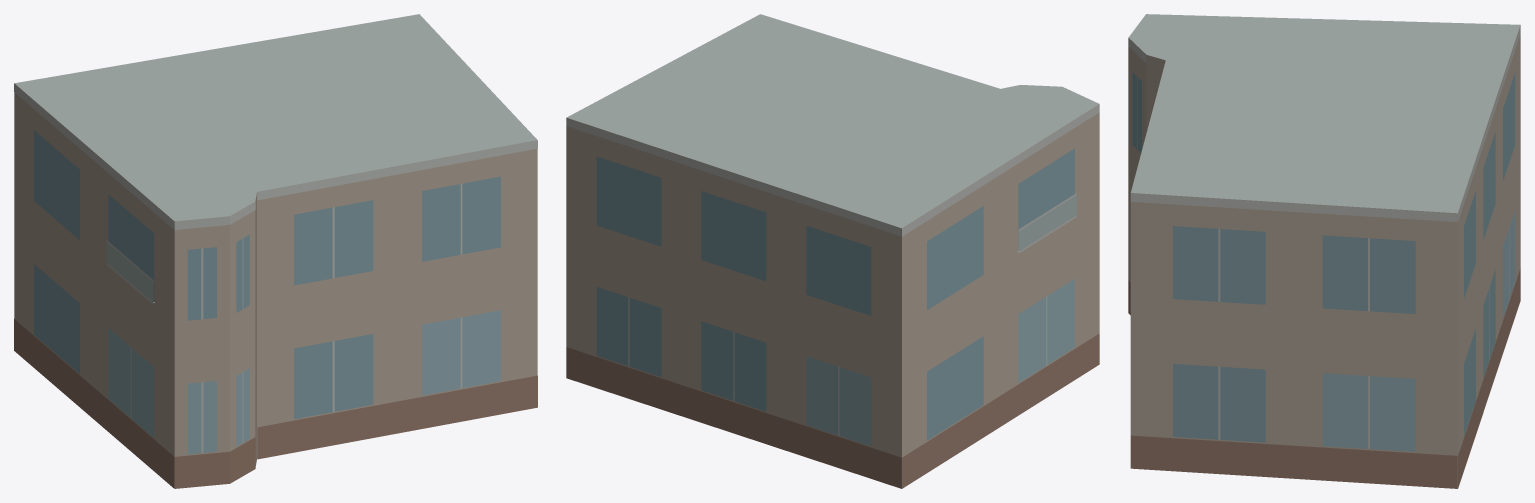
The model's file is survey-upis-32657113.glb.
3 renders of one model, left to right at view 1: azimuth 30°, elevation 25°; view 2: azimuth 150°, elevation 25°; view 3: azimuth 270°, elevation 25°, orthographic. The views are drawn at different scales.
Visible parts, largest first — view 1: survey-upis-32657113.tmp; view 2: survey-upis-32657113.tmp; view 3: survey-upis-32657113.tmp.
Part boxes in pixels (<box>): survey-upis-32657113.tmp: <box>14,14,537,488</box>; survey-upis-32657113.tmp: <box>566,14,1099,488</box>; survey-upis-32657113.tmp: <box>1128,14,1520,488</box>.
Bounding box in the file's own units: 11.79 × 7.6 × 9.81.
